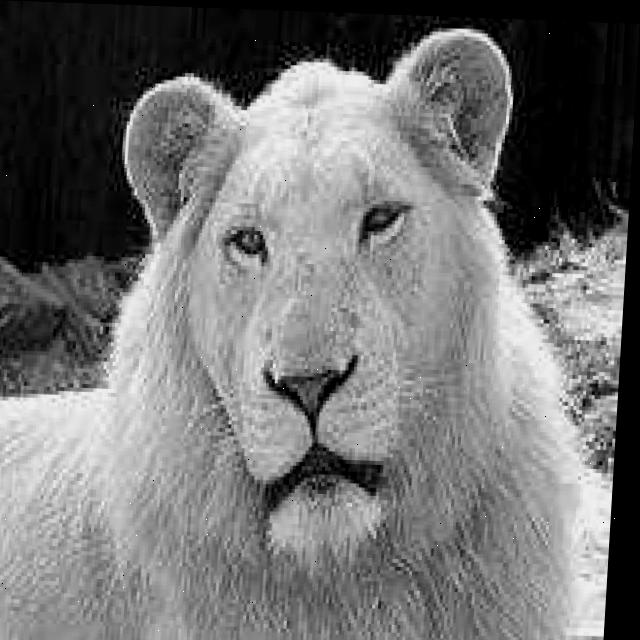Lion: (78, 35, 638, 640)
